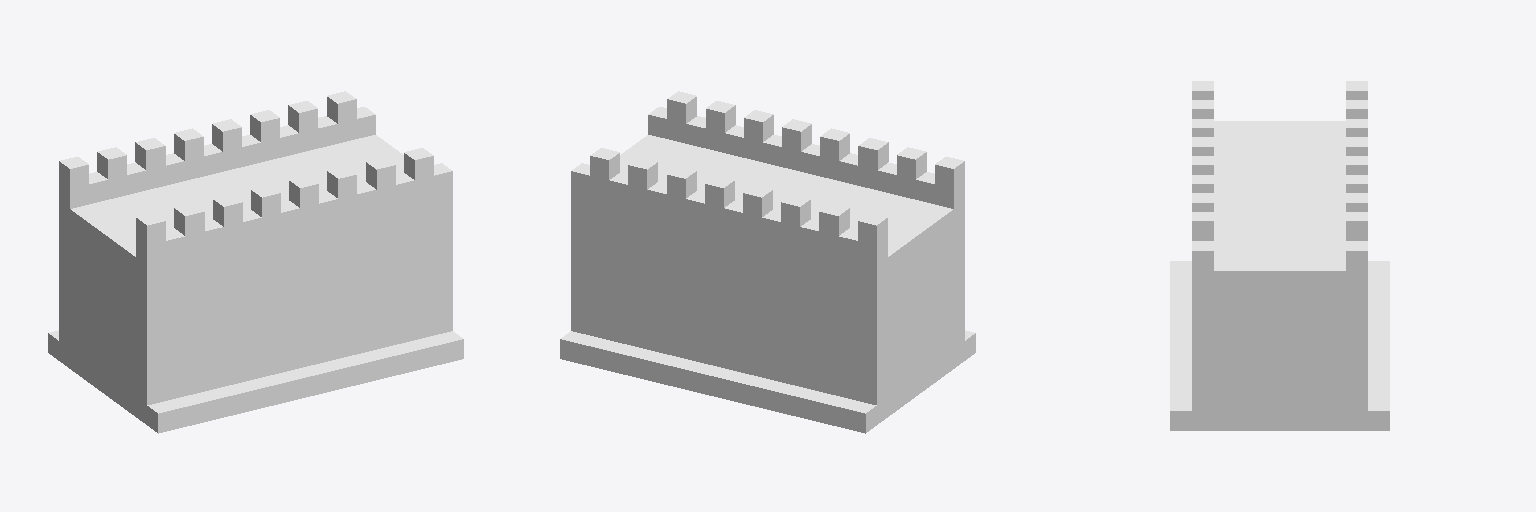
Rendered from WallStraight1.obj.
3 renders of one model, left to right at view 1: azimuth 30°, elevation 25°; view 2: azimuth 150°, elevation 25°; view 3: azimuth 270°, elevation 25°, orthographic.
Visible parts, largest first — view 1: WallStraight1; view 2: WallStraight1; view 3: WallStraight1.
Part boxes in pixels (bbox=[...]): WallStraight1: bbox=[48, 91, 463, 433]; WallStraight1: bbox=[560, 91, 975, 433]; WallStraight1: bbox=[1170, 81, 1389, 430].
Bounding box in the file's own units: 16 × 10 × 10.